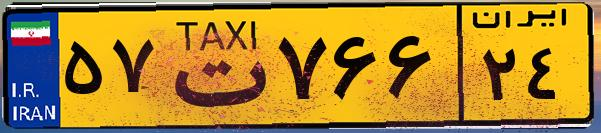2: (475, 38, 525, 113)
4: (525, 38, 570, 115)
5: (57, 26, 110, 100)
6: (385, 28, 445, 110), (330, 28, 385, 110)
7: (270, 28, 330, 110), (110, 28, 158, 98)
ت: (158, 12, 270, 120)
